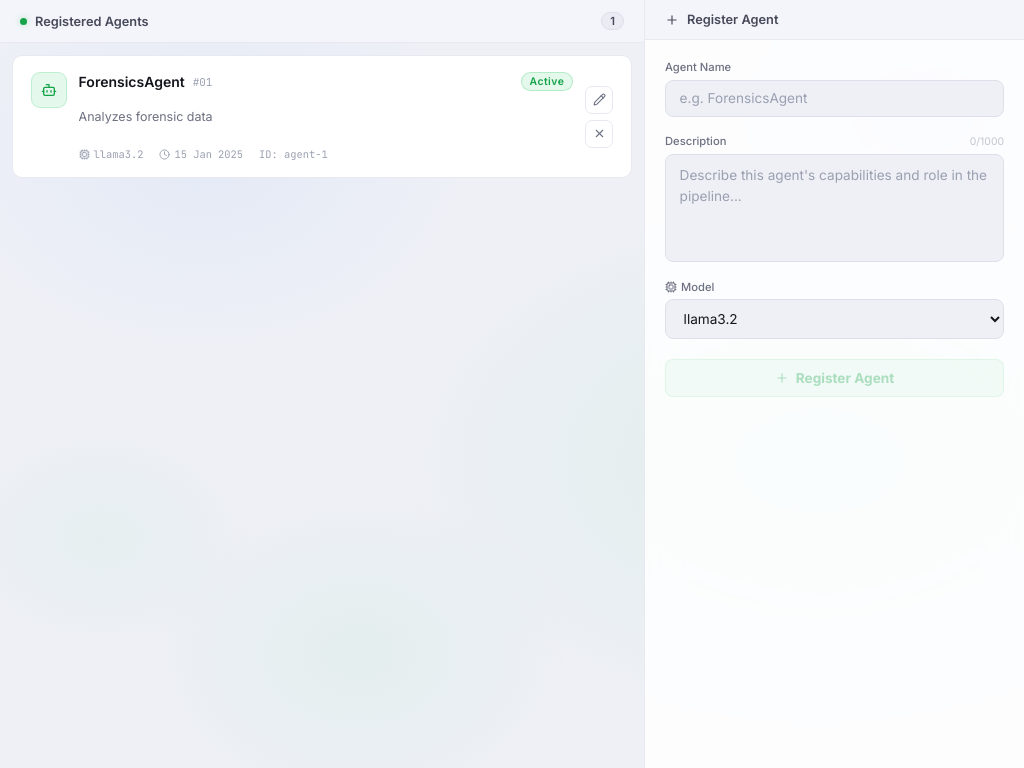
Test: Agents edit modal › opens edit modal when Edit button is clicked
Click the button titled "Edit agent" at (599, 100), box [585,86,613,114]
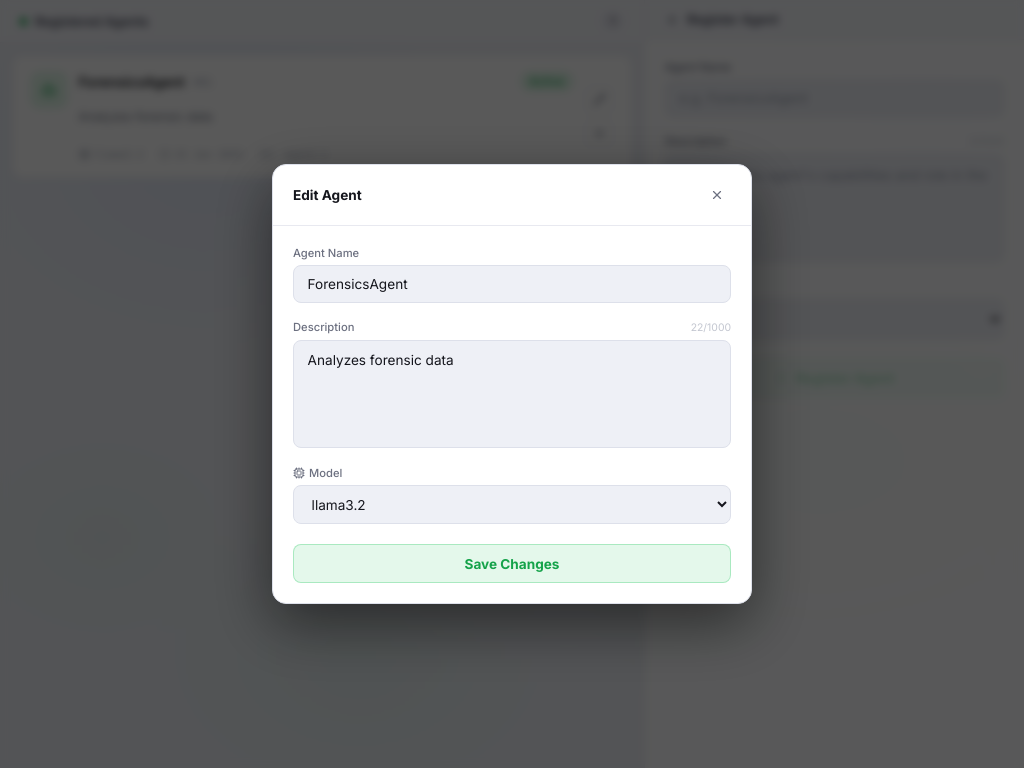
Check: the text "Edit Agent" is shown, box [293,187,362,203]
